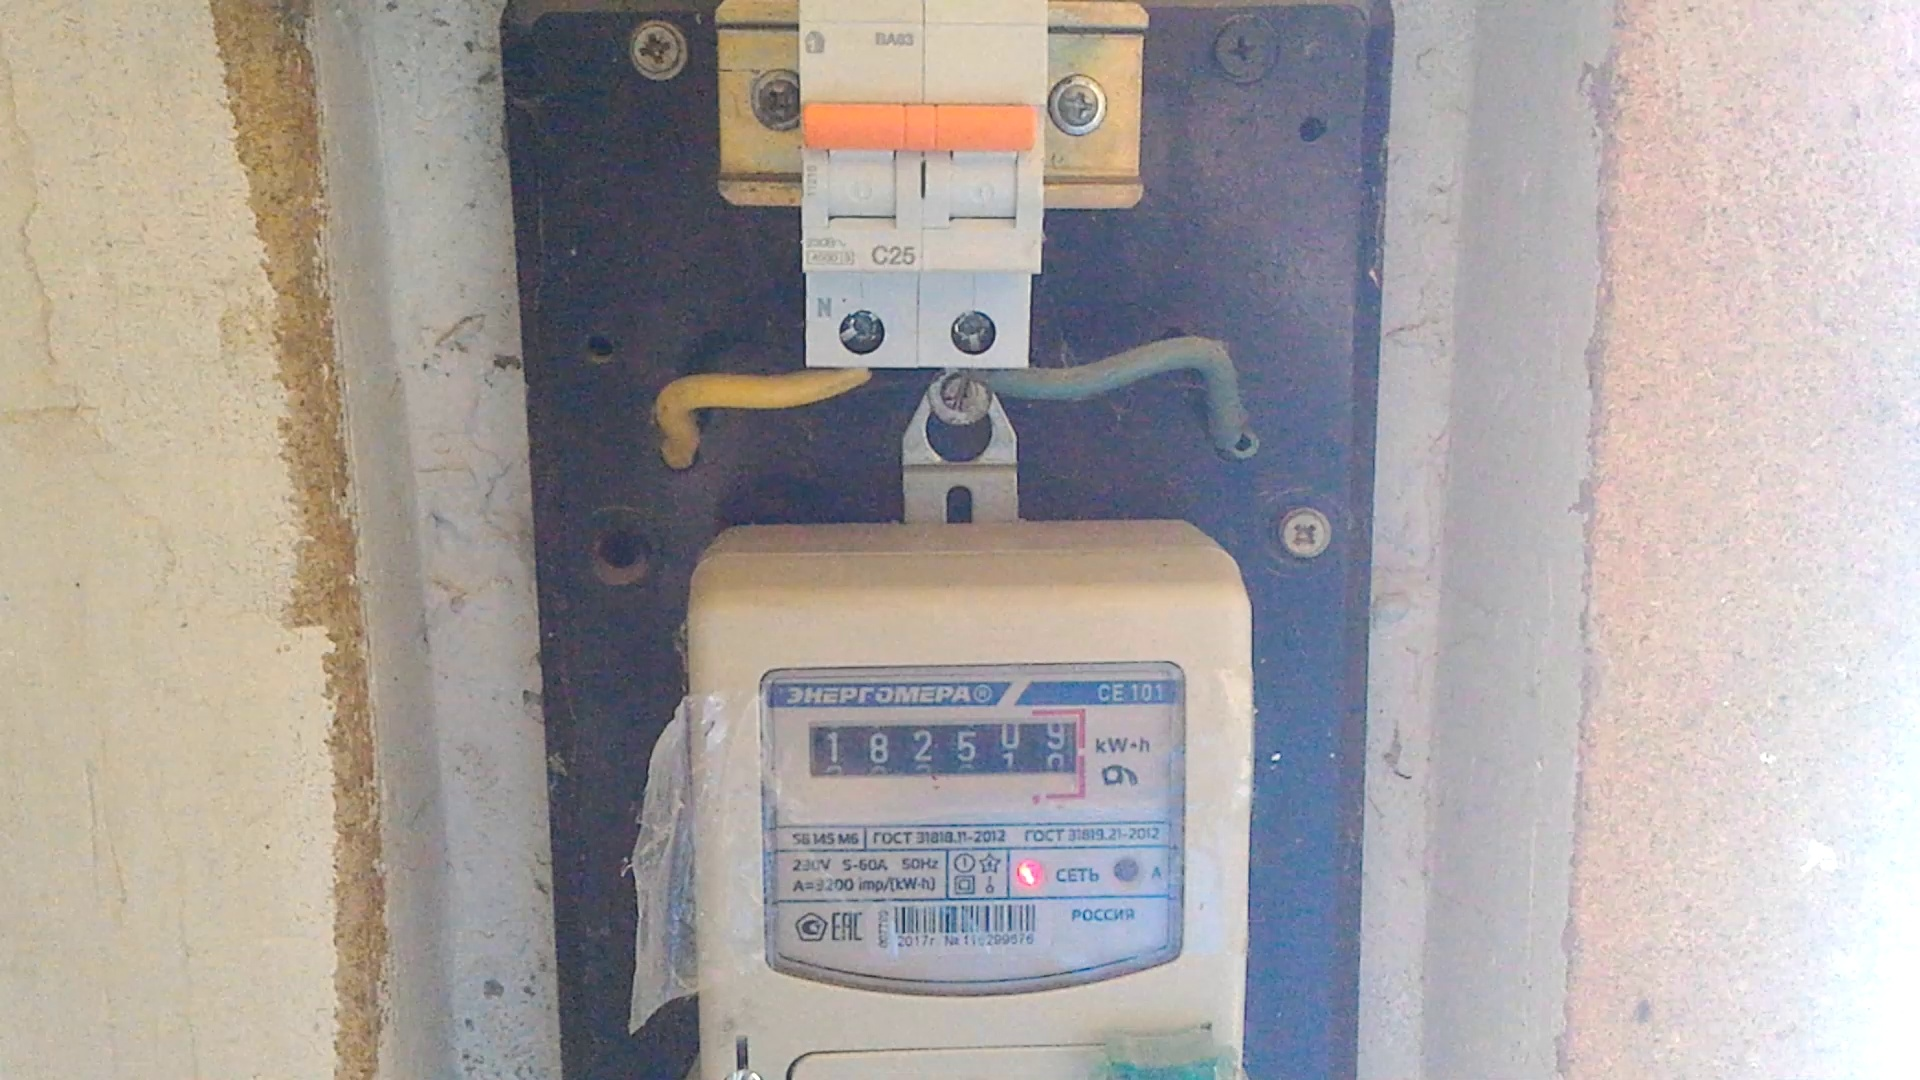counter: (688, 584, 1241, 1077)
counter_screen: (808, 720, 1076, 775)
